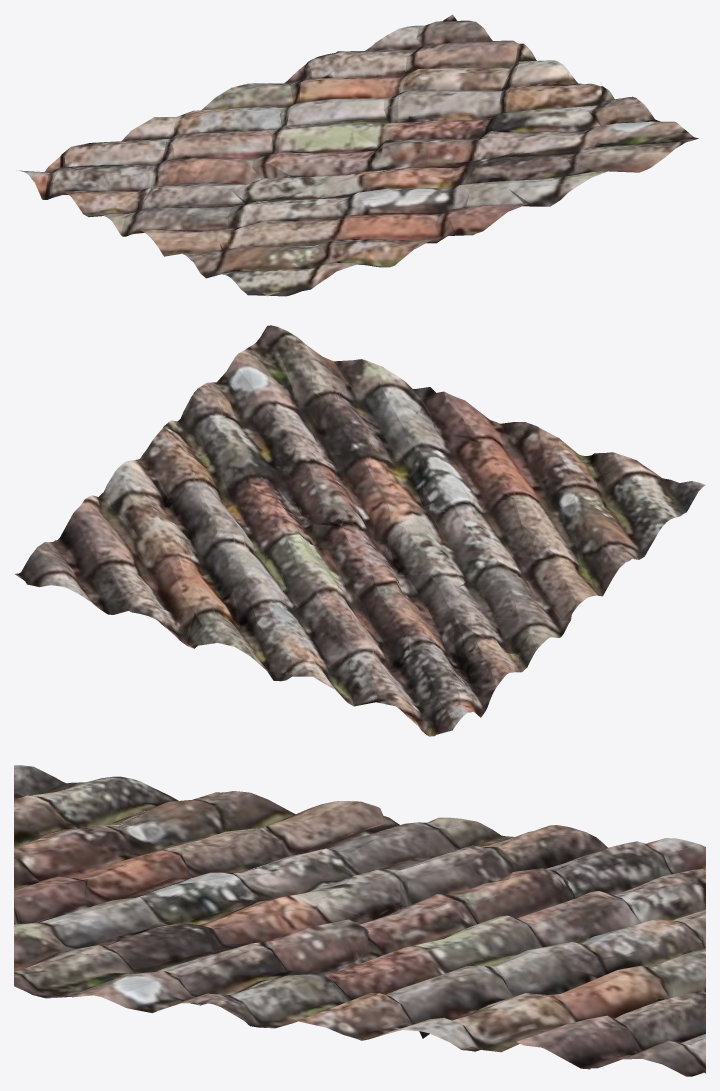
3 renders of one model, top to bottom at view 1: azimuth 30°, elevation 25°; view 2: azimuth 150°, elevation 25°; view 3: azimuth 270°, elevation 25°, orthographic. The views are drawn at different scales.
Bounding box in the file's own units: 1.67 × 0.4649 × 1.67.
Materials: 3 (3 with a texture image).
